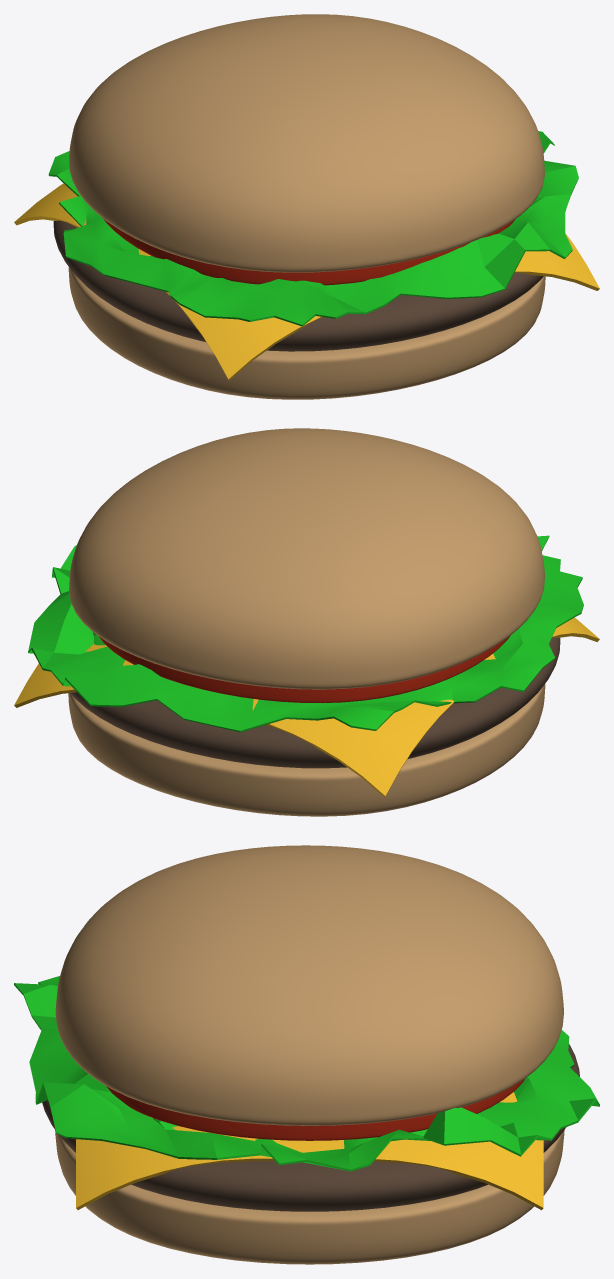
Rendered from hamburger.glb.
3 views of the same model, one above another, from view 1: azimuth 30°, elevation 25°; view 2: azimuth 150°, elevation 25°; view 3: azimuth 270°, elevation 25° (orthographic). The views are drawn at different scales.
Parts seen in each view (by area): view 1: Top bun, Lettuce, Bottom bun, Patty, Cheese, Tomato; view 2: Top bun, Lettuce, Bottom bun, Patty, Cheese, Tomato; view 3: Top bun, Lettuce, Bottom bun, Patty, Cheese, Tomato.
Part boxes in pixels (x1=…): Top bun: x1=69, y1=14, x2=544, y2=272; Lettuce: x1=48, y1=131, x2=578, y2=326; Bottom bun: x1=68, y1=267, x2=545, y2=399; Patty: x1=53, y1=220, x2=543, y2=351; Cheese: x1=14, y1=183, x2=599, y2=380; Tomato: x1=103, y1=218, x2=515, y2=285; Top bun: x1=69, y1=428, x2=544, y2=689; Lettuce: x1=28, y1=535, x2=583, y2=732; Bottom bun: x1=68, y1=684, x2=545, y2=816; Patty: x1=70, y1=637, x2=560, y2=768; Cheese: x1=14, y1=617, x2=599, y2=797; Tomato: x1=98, y1=635, x2=510, y2=703; Top bun: x1=55, y1=845, x2=563, y2=1125; Lettuce: x1=14, y1=976, x2=599, y2=1171; Bottom bun: x1=55, y1=1130, x2=564, y2=1264; Patty: x1=42, y1=1044, x2=579, y2=1211; Cheese: x1=76, y1=1092, x2=543, y2=1210; Tomato: x1=106, y1=1079, x2=524, y2=1140.
Size of the model in its own units: 10.49 by 5.68 by 10.54.
